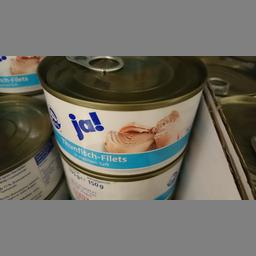fish: (36, 54, 206, 174)
